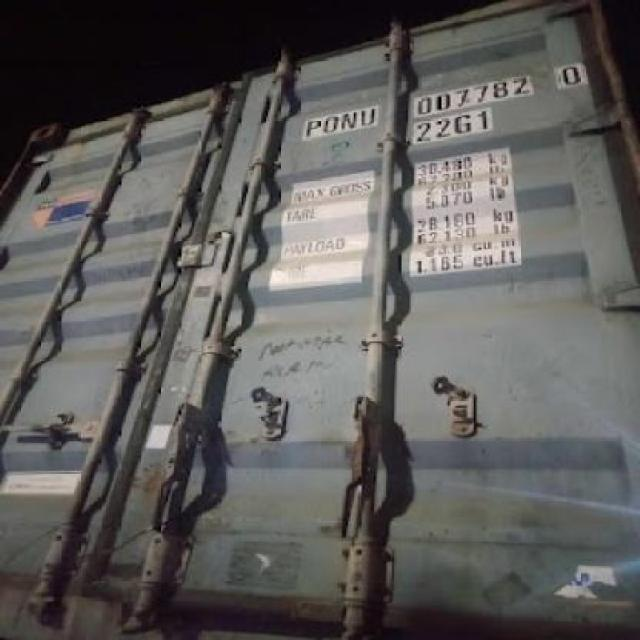ISO: (416, 106, 495, 150)
container_number: (293, 66, 579, 141)
